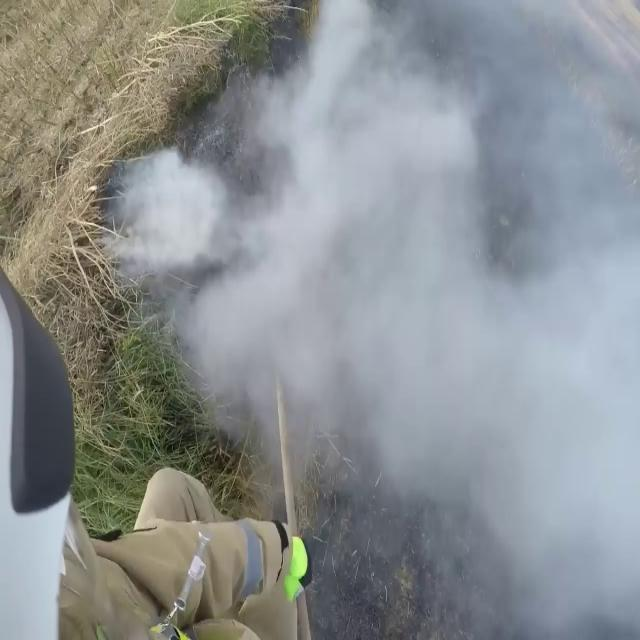Smoke: (97, 0, 640, 630)
